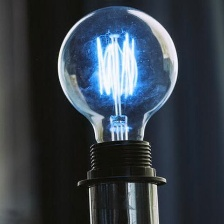light_bulb: (52, 1, 185, 168)
